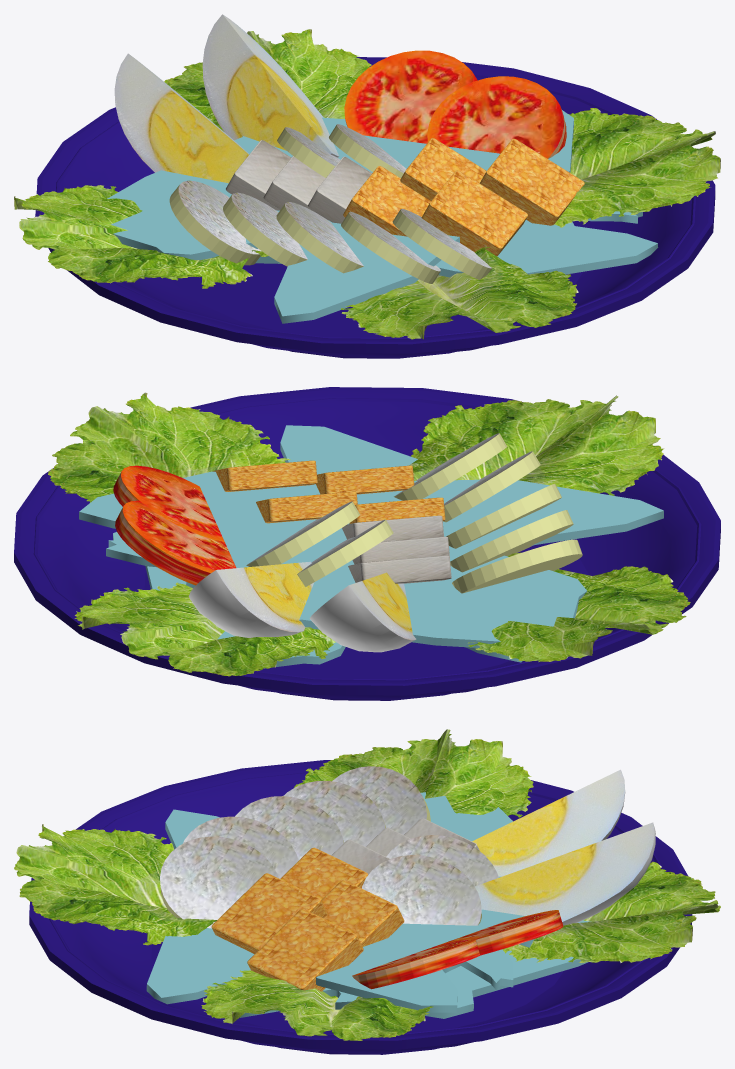
The model's file is gado gado.fbx.
3 renders of one model, top to bottom at view 1: azimuth 30°, elevation 25°; view 2: azimuth 150°, elevation 25°; view 3: azimuth 270°, elevation 25°, orthographic. The views are drawn at different scales.
Parts seen in each view (by area): view 1: piring.001, BUMBU KACANG.001, SELADA BOI.001, SELADA BOI, SELADA BOI.003, telor 2, telor 2.001, Cylinder.001, Cylinder.017, BUMBU KACANG, SELADA BOI.002, Cube.005 (+13 smaller); view 2: piring.001, BUMBU KACANG.001, SELADA BOI.003, SELADA BOI.001, SELADA BOI.002, SELADA BOI, telor 2, telor 2.001, BUMBU KACANG, Cylinder.017, Cylinder.001, Cylinder.006 (+13 smaller); view 3: piring.001, SELADA BOI.003, BUMBU KACANG.001, SELADA BOI.002, telor 2, SELADA BOI, BUMBU KACANG, SELADA BOI.001, telor 2.001, Cylinder.004, Cylinder.007, Cube.006 (+13 smaller).
Boxes of the visible parts, x1,y1,x2,y2 form: piring.001: (35, 57, 715, 358); BUMBU KACANG.001: (107, 110, 573, 323); SELADA BOI.001: (554, 108, 720, 227); SELADA BOI: (14, 185, 268, 288); SELADA BOI.003: (341, 247, 578, 339); telor 2: (202, 14, 339, 157); telor 2.001: (114, 53, 249, 183); Cylinder.001: (427, 76, 566, 158); Cylinder.017: (344, 50, 477, 143); BUMBU KACANG: (255, 211, 658, 277); SELADA BOI.002: (164, 29, 371, 131); Cube.005: (421, 170, 527, 255); piring.001: (14, 387, 720, 700); BUMBU KACANG.001: (79, 471, 663, 647); SELADA BOI.003: (409, 395, 664, 495); SELADA BOI.001: (48, 392, 290, 502); SELADA BOI.002: (74, 582, 335, 676); SELADA BOI: (468, 552, 690, 661); telor 2: (188, 561, 314, 637); telor 2.001: (309, 572, 416, 652); BUMBU KACANG: (113, 425, 522, 668); Cylinder.017: (115, 500, 236, 585); Cylinder.001: (113, 465, 224, 541); Cylinder.006: (452, 539, 582, 593); piring.001: (29, 760, 692, 1054); SELADA BOI.003: (14, 824, 216, 945); BUMBU KACANG.001: (165, 792, 534, 1012); SELADA BOI.002: (502, 861, 720, 962); telor 2: (475, 822, 655, 925); SELADA BOI: (294, 729, 533, 820); BUMBU KACANG: (146, 920, 591, 1018); SELADA BOI.001: (201, 970, 433, 1040); telor 2.001: (472, 769, 625, 876); Cylinder.004: (160, 836, 278, 928); Cylinder.007: (362, 855, 481, 925); Cube.006: (247, 909, 363, 991).
Bounding box in the file's own units: 10217 × 2348 × 10270.
